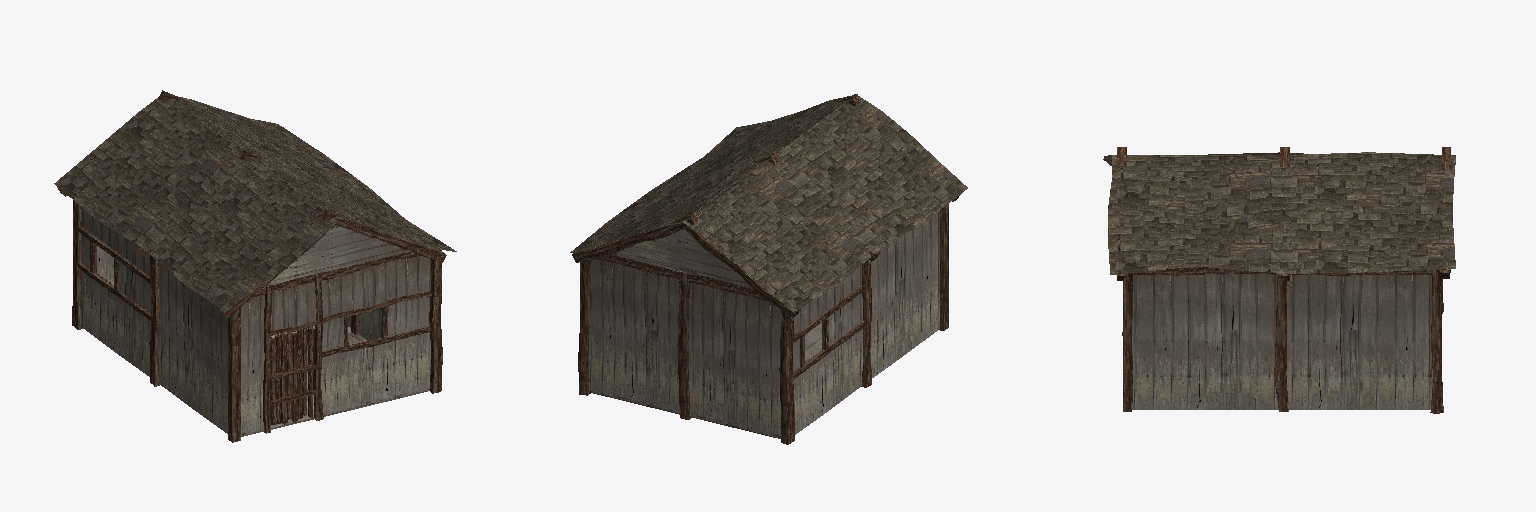
3 renders of one model, left to right at view 1: azimuth 30°, elevation 25°; view 2: azimuth 150°, elevation 25°; view 3: azimuth 270°, elevation 25°, orthographic.
Parts seen in each view (by area): view 1: Roof.001_Plane.007, Wall.004_Plane.006, Wall.002_Plane.003, Roof.002_Plane.008, Wall.005_Plane.009, Log1.001_Cube.008, Log1.002_Cube.009, Log1.025_Cube.040, Log1.005_Cube.012, Log1.010_Cube.017, Log1.006_Cube.013, Log1.009_Cube.016 (+7 smaller); view 2: Roof.001_Plane.007, Wall.003_Plane.004, Wall.002_Plane.003, Roof.002_Plane.008, Wall.006_Plane.010, Log1.006_Cube.013, Log1.023_Cube.038, Log1.004_Cube.011, Log1.029_Cube.044, Log2.003_Cube.006, Log1.001_Cube.008, Log1.005_Cube.012 (+2 smaller); view 3: Roof.002_Plane.008, Wall.001_Plane.002, Log1.003_Cube.010, Log1.004_Cube.011, Log1.002_Cube.009, Log2.002_Cube.005.
Boxes of the visible parts, box(x1,y1,x2,y2) form: Roof.001_Plane.007: box(54, 97, 338, 311); Wall.004_Plane.006: box(241, 256, 430, 435); Wall.002_Plane.003: box(81, 208, 227, 433); Roof.002_Plane.008: box(174, 97, 456, 251); Wall.005_Plane.009: box(265, 225, 409, 286); Log1.001_Cube.008: box(228, 308, 240, 442); Log1.002_Cube.009: box(429, 243, 442, 393); Log1.025_Cube.040: box(320, 209, 446, 262); Log1.005_Cube.012: box(150, 255, 159, 386); Log1.010_Cube.017: box(313, 273, 323, 420); Log1.006_Cube.013: box(72, 200, 82, 329); Log1.009_Cube.016: box(263, 285, 272, 433); Roof.001_Plane.007: box(683, 96, 967, 311); Wall.003_Plane.004: box(589, 259, 780, 438); Wall.002_Plane.003: box(793, 211, 939, 434); Roof.002_Plane.008: box(570, 96, 848, 252); Wall.006_Plane.010: box(612, 229, 752, 288); Log1.006_Cube.013: box(779, 310, 794, 444); Log1.023_Cube.038: box(677, 271, 690, 419); Log1.004_Cube.011: box(578, 260, 590, 395); Log1.029_Cube.044: box(572, 212, 698, 262); Log2.003_Cube.006: box(598, 255, 767, 300); Log1.001_Cube.008: box(939, 204, 948, 330); Log1.005_Cube.012: box(861, 259, 871, 387); Roof.002_Plane.008: box(1108, 152, 1455, 274); Wall.001_Plane.002: box(1132, 273, 1432, 409); Log1.003_Cube.010: box(1274, 274, 1288, 411); Log1.004_Cube.011: box(1430, 270, 1443, 413); Log1.002_Cube.009: box(1122, 266, 1132, 411); Log2.002_Cube.005: box(1133, 266, 1432, 275).
Bounding box in the file's own units: 3.47 × 2.99 × 4.56.
Materials: 4 (3 with a texture image).